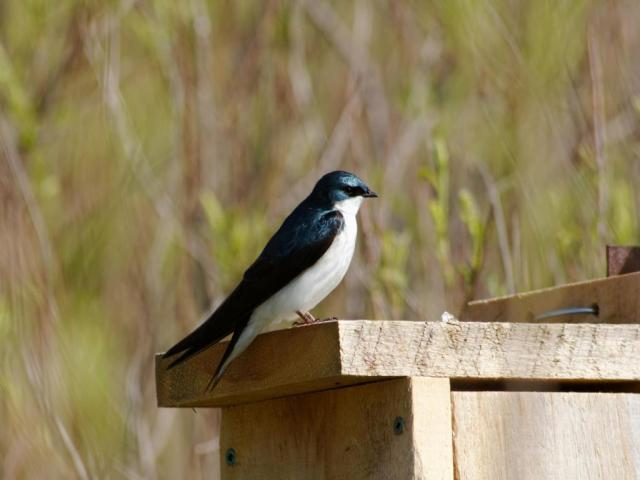Bird: (160, 168, 380, 394)
